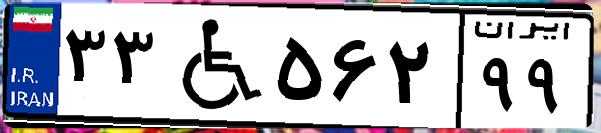2: (385, 28, 445, 110)
3: (57, 26, 110, 100), (110, 28, 158, 98)
5: (270, 28, 330, 110)
6: (330, 28, 385, 110)
9: (475, 38, 525, 113), (525, 38, 570, 115)
ژ (معلولین و جانبازان): (158, 12, 270, 120)
